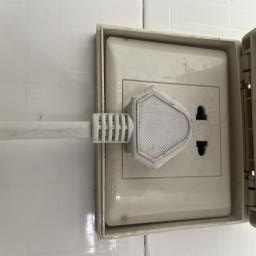outlet: (88, 27, 240, 238)
